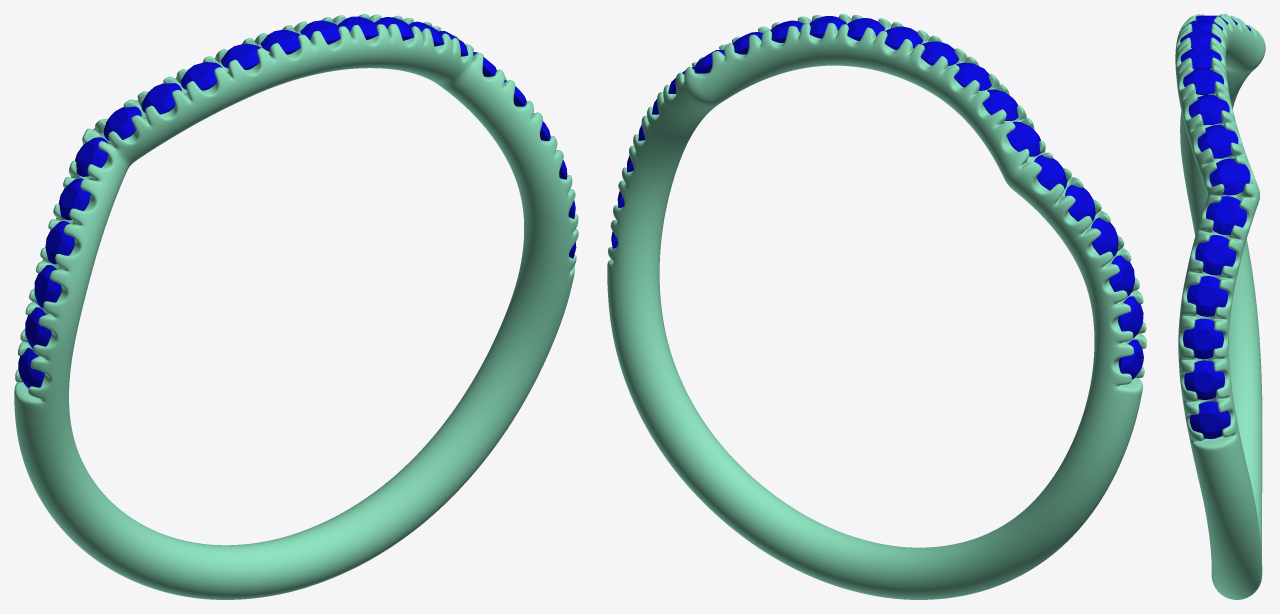
The picture shows the model from 3 angles, left to right: view 1: azimuth 30°, elevation 25°; view 2: azimuth 150°, elevation 25°; view 3: azimuth 270°, elevation 25°; orthographic projection. The views are drawn at different scales.
Parts seen in each view (by area): view 1: Metal03, Diamond_Band014, Diamond_Band004, Diamond_Band005, Diamond_Band003, Diamond_Band006, Diamond_Band002, Diamond_Band015; view 2: Metal03, Diamond_Band005, Diamond_Band014, Diamond_Band004, Diamond_Band003, Diamond_Band006, Diamond_Band002; view 3: Metal03, Diamond_Band, Diamond_Band011, Diamond_Band010, Diamond_Band021, Diamond_Band009, Diamond_Band012, Diamond_Band008, Diamond_Band020, Diamond_Band019, Diamond_Band007, Diamond_Band018 (+2 smaller).
Part boxes in pixels (x1,y1,x2,y2): Metal03: [14, 14, 578, 599]; Diamond_Band014: [75, 137, 108, 176]; Diamond_Band004: [58, 178, 90, 220]; Diamond_Band005: [103, 106, 141, 140]; Diamond_Band003: [45, 221, 74, 264]; Diamond_Band006: [141, 83, 181, 114]; Diamond_Band002: [34, 265, 61, 308]; Diamond_Band015: [180, 62, 221, 90]; Metal03: [607, 14, 1146, 599]; Diamond_Band005: [1006, 121, 1040, 156]; Diamond_Band014: [1034, 155, 1067, 190]; Diamond_Band004: [1065, 185, 1095, 221]; Diamond_Band003: [1091, 217, 1118, 256]; Diamond_Band006: [982, 89, 1018, 120]; Diamond_Band002: [1109, 255, 1134, 296]; Metal03: [1175, 14, 1265, 599]; Diamond_Band: [1187, 276, 1227, 316]; Diamond_Band011: [1183, 318, 1223, 359]; Diamond_Band010: [1195, 235, 1235, 275]; Diamond_Band021: [1184, 360, 1224, 399]; Diamond_Band009: [1206, 196, 1246, 234]; Diamond_Band012: [1190, 401, 1230, 438]; Diamond_Band008: [1209, 158, 1250, 195]; Diamond_Band020: [1197, 125, 1238, 158]; Diamond_Band019: [1188, 95, 1229, 124]; Diamond_Band007: [1183, 68, 1223, 95]; Diamond_Band018: [1180, 47, 1221, 69].
Size of the model in its own units: 20.82 by 20.75 by 3.2.
